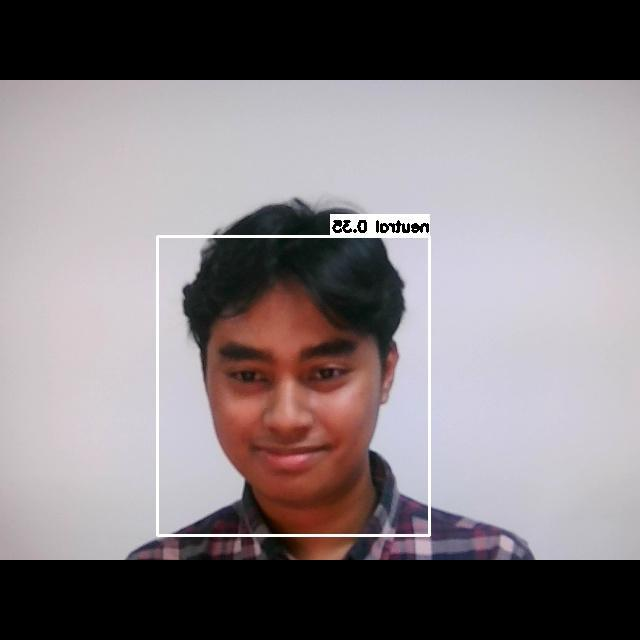Happy: (199, 312, 386, 483)
